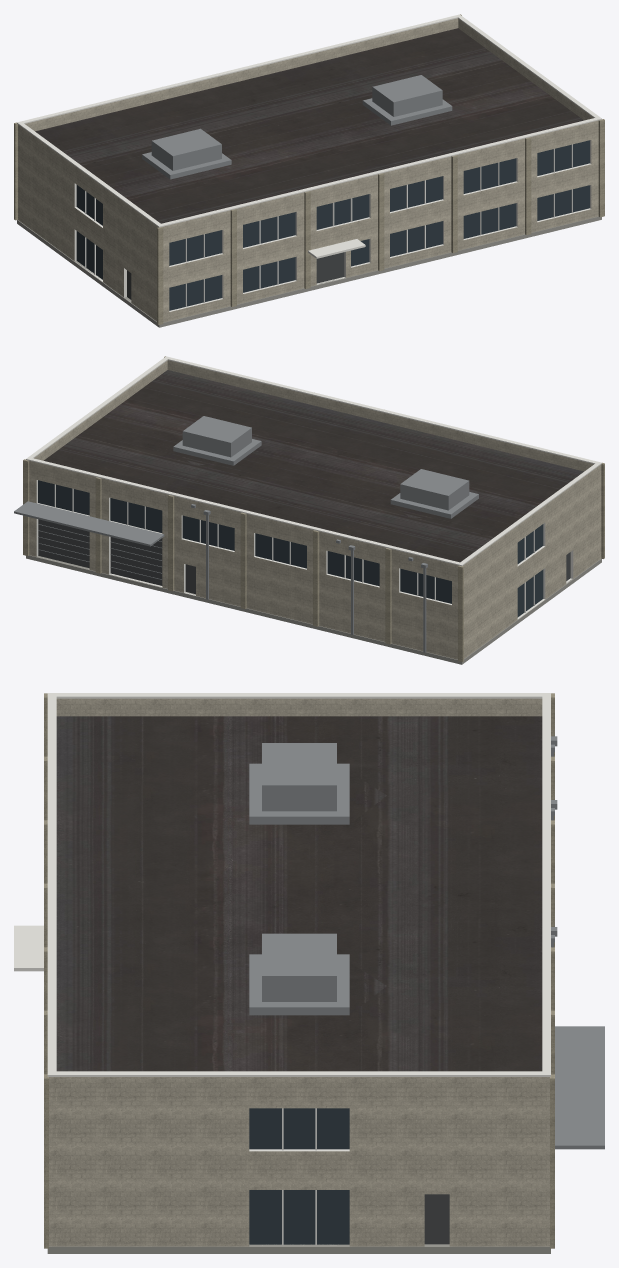
File: w1-workplace.glb
3 views of the same model, one above another, from view 1: azimuth 30°, elevation 25°; view 2: azimuth 150°, elevation 25°; view 3: azimuth 270°, elevation 25° (orthographic). The views are drawn at different scales.
Parts seen in each view (by area): view 1: w1-workplace; view 2: w1-workplace; view 3: w1-workplace.
Part boxes in pixels (bbox=[...]): w1-workplace: bbox=[14, 14, 604, 327]; w1-workplace: bbox=[14, 356, 604, 664]; w1-workplace: bbox=[14, 693, 604, 1253].
Size of the model in its own units: 36.4 by 8.5 by 23.6.
9 materials, 3 textured.
